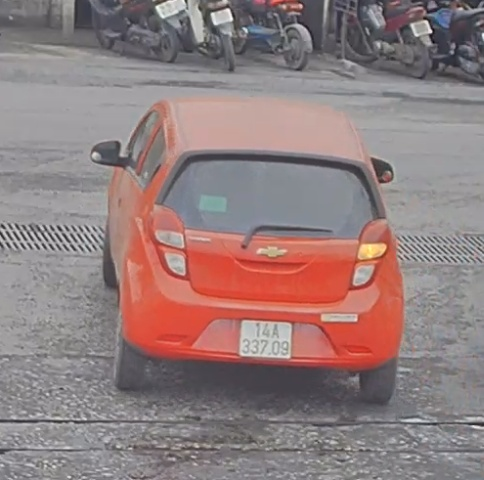vehicle plate: (239, 315, 293, 363)
